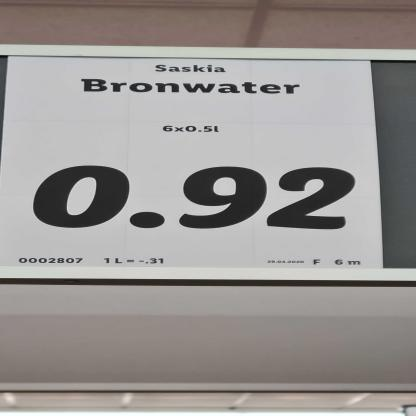prtg: (1, 56, 384, 270)
